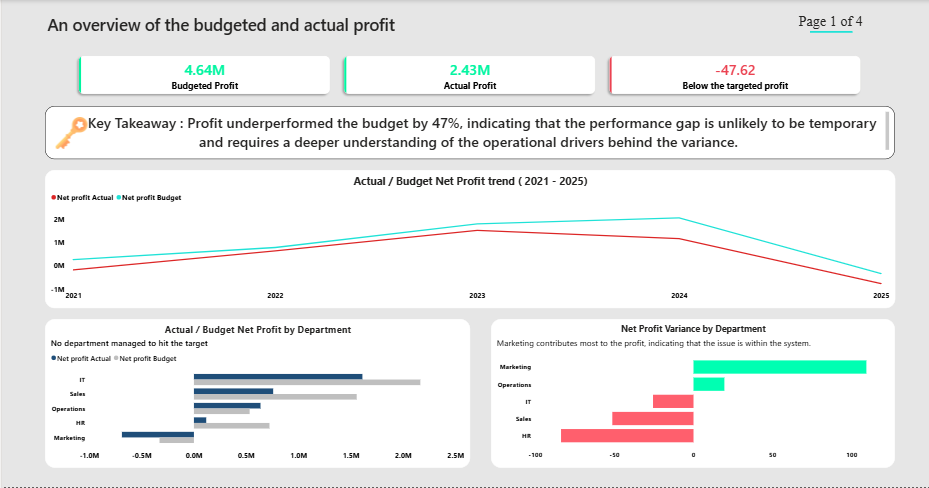

Layout of this report page (visuals, bound fields, positions):
{"tool":"powerbi","page":{"name":"Page 1","canvas":[2100,1100],"ordinal":0},"visuals":[{"type":"clusteredBarChart","title":"Actual / Budget Net Profit by  Department","fields":{"Category":["DepartDim.Department"],"Y":["FactBvA.Net profit Actual","FactBvA.Net profit Budget"]},"box":[96,720,960,336],"z":0},{"type":"cardVisual","fields":{"Data":["FactBvA.Net profit Budget","FactBvA.Net profit Actual","FactBvA.%VarianceNetProfit"]},"box":[144,96,1824,144],"z":1000},{"type":"clusteredBarChart","title":" Net Profit Variance by Department","fields":{"Category":["DepartDim.Department"],"Y":["FactBvA.%VarianceNetProfit"]},"box":[1104,720,912,336],"z":2000},{"type":"lineChart","title":"Actual / Budget Net Profit trend ( 2021 - 2025)","fields":{"Y":["FactBvA.Net profit Actual","FactBvA.Net profit Budget"],"Category":["DateDim.Year"]},"box":[96,384,1920,312],"z":3000},{"type":"textbox","box":[96,24,1536,72],"z":4000},{"type":"textbox","box":[97.1,239.4,1919.4,119.7],"z":5000},{"type":"image","box":[96,264,120,72],"z":6000},{"type":"textbox","box":[1728,24,288,72],"z":7000},{"type":"shape","box":[1824,0,96,144],"z":8000}]}

Visuals, with their boxes in screenshot pixels (x1, y1, x2, y2), scaled from the page's 2100x1100 canvas onto the 929x488 screenshot:
"Actual / Budget Net Profit by  Department" clusteredBarChart: [left=42, top=319, right=467, bottom=468]
cardVisual - FactBvA.Net profit Budget x FactBvA.Net profit Actual: [left=64, top=43, right=871, bottom=106]
" Net Profit Variance by Department" clusteredBarChart: [left=488, top=319, right=892, bottom=468]
"Actual / Budget Net Profit trend ( 2021 - 2025)" lineChart: [left=42, top=170, right=892, bottom=309]
textbox: [left=42, top=11, right=722, bottom=43]
textbox: [left=43, top=106, right=892, bottom=159]
image: [left=42, top=117, right=96, bottom=149]
textbox: [left=764, top=11, right=892, bottom=43]
shape: [left=807, top=0, right=849, bottom=64]
